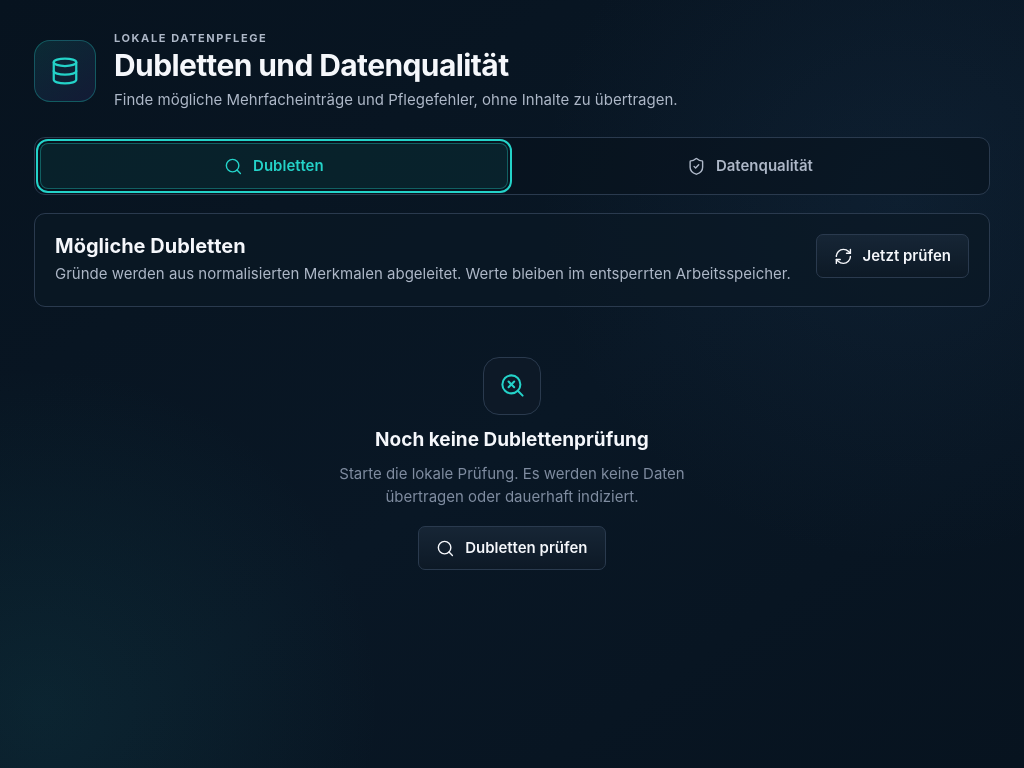
DataQualityViews › wechselt Tabs per Tastatur und zeigt redigierte deutsche Befunde mit Fix-Vorschau
Press ArrowRight in the tab "Dubletten", box [40, 143, 508, 189]
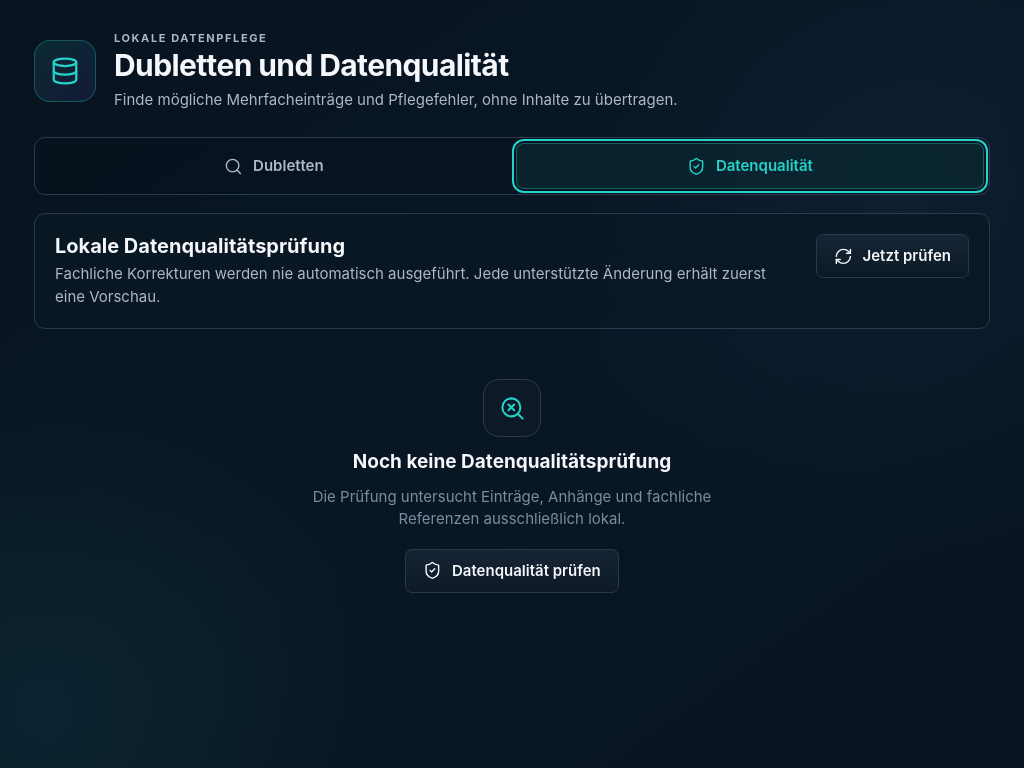
Check: the tab "Datenqualität" is selected, box [516, 143, 984, 189]
Click the button "Datenqualität prüfen".
click(512, 571)  # box [405, 549, 619, 593]
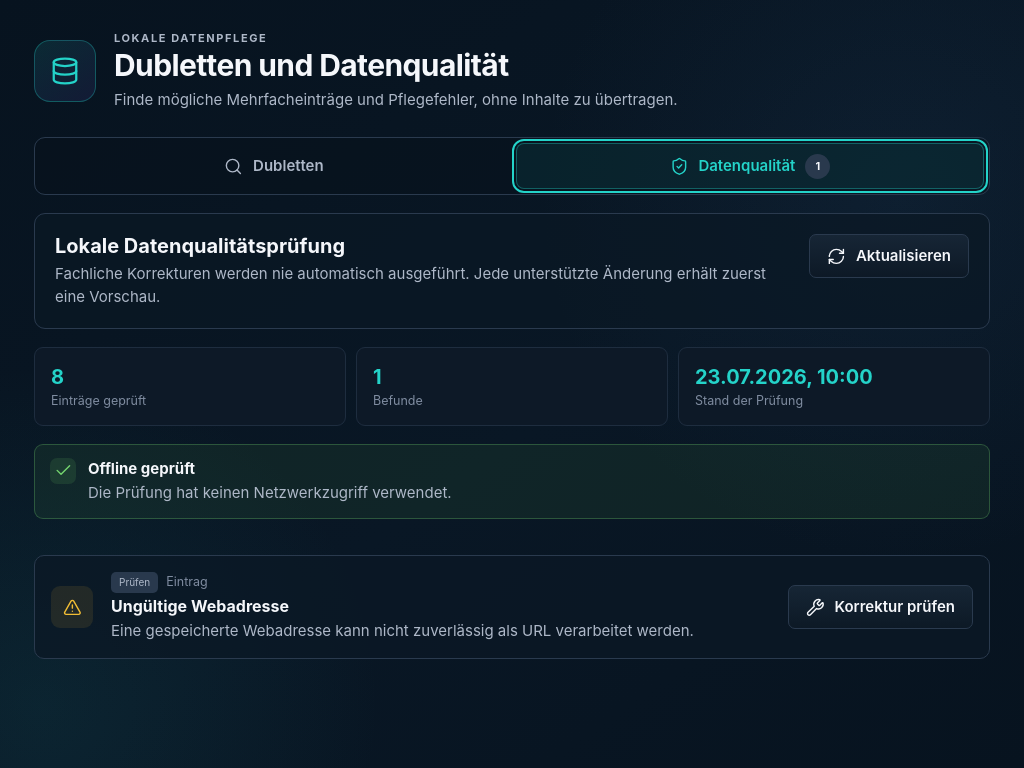
Check: the heading "Ungültige Webadresse" is shown, box [111, 596, 289, 616]
Click the button "Korrektur prüfen".
click(880, 607)  # box [788, 585, 973, 629]
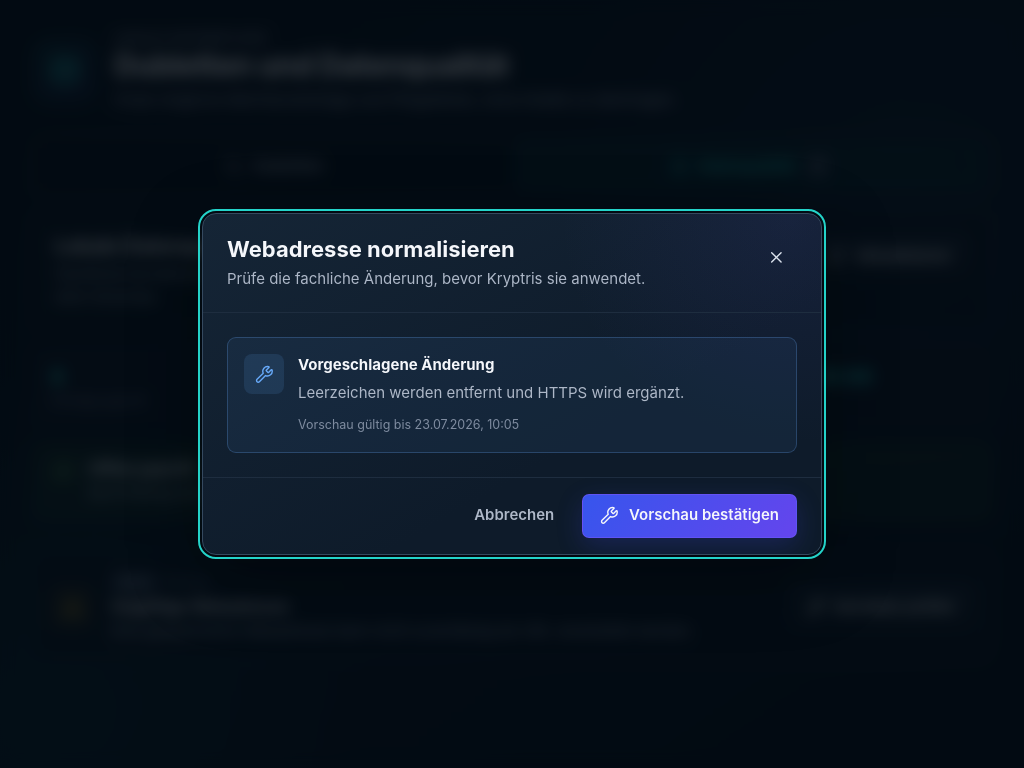
Check: the text "Leerzeichen werden entfernt und HTTPS wird ergänzt." is shown, box [298, 382, 684, 404]
Click the button "Vorschau bestätigen".
click(690, 516)  # box [582, 494, 797, 538]
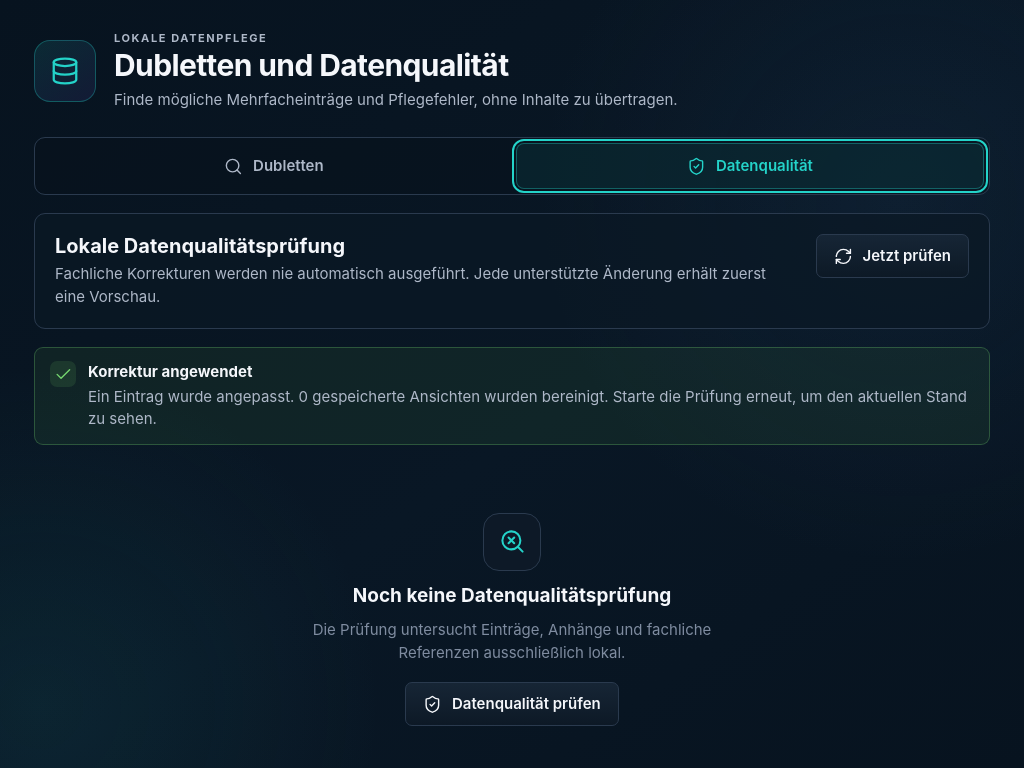
Check: the text "Korrektur angewendet" is shown, box [88, 362, 252, 381]
